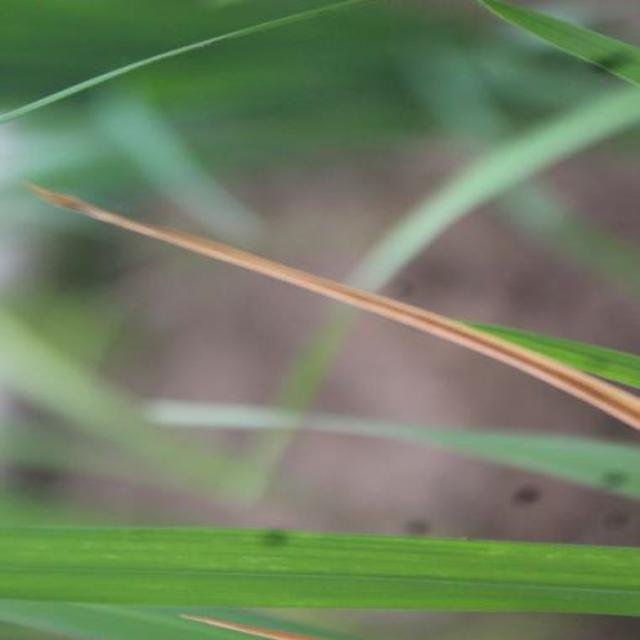Tungro: (34, 177, 640, 429)
